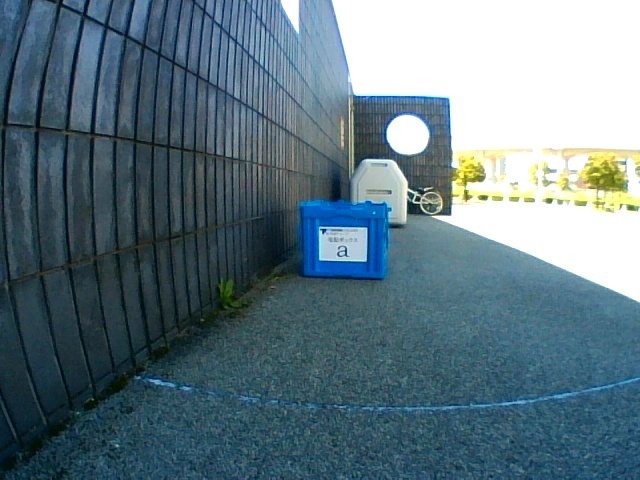blue_box: (300, 200, 388, 279)
tag_a: (322, 229, 366, 261)
